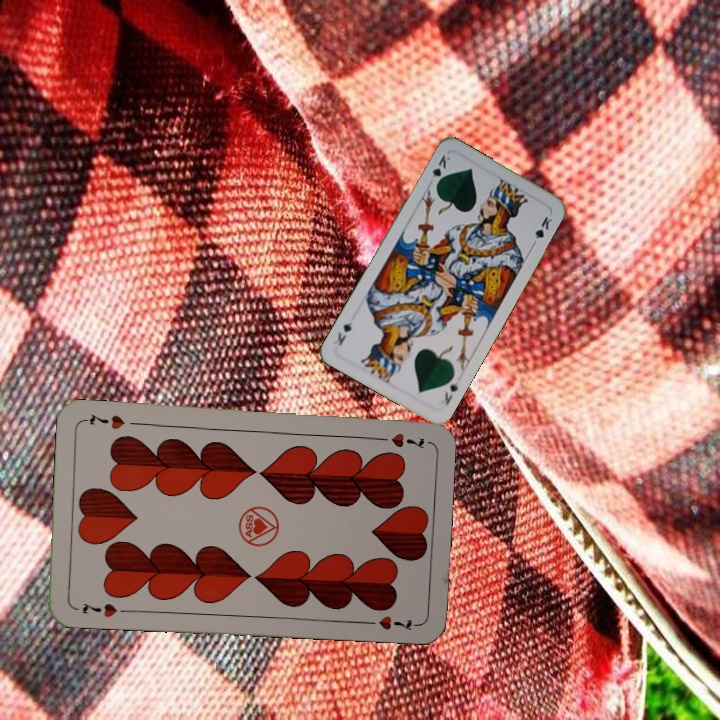GK: (427, 150, 453, 190), (440, 377, 462, 408)
H7: (370, 429, 427, 450), (78, 599, 131, 620)
